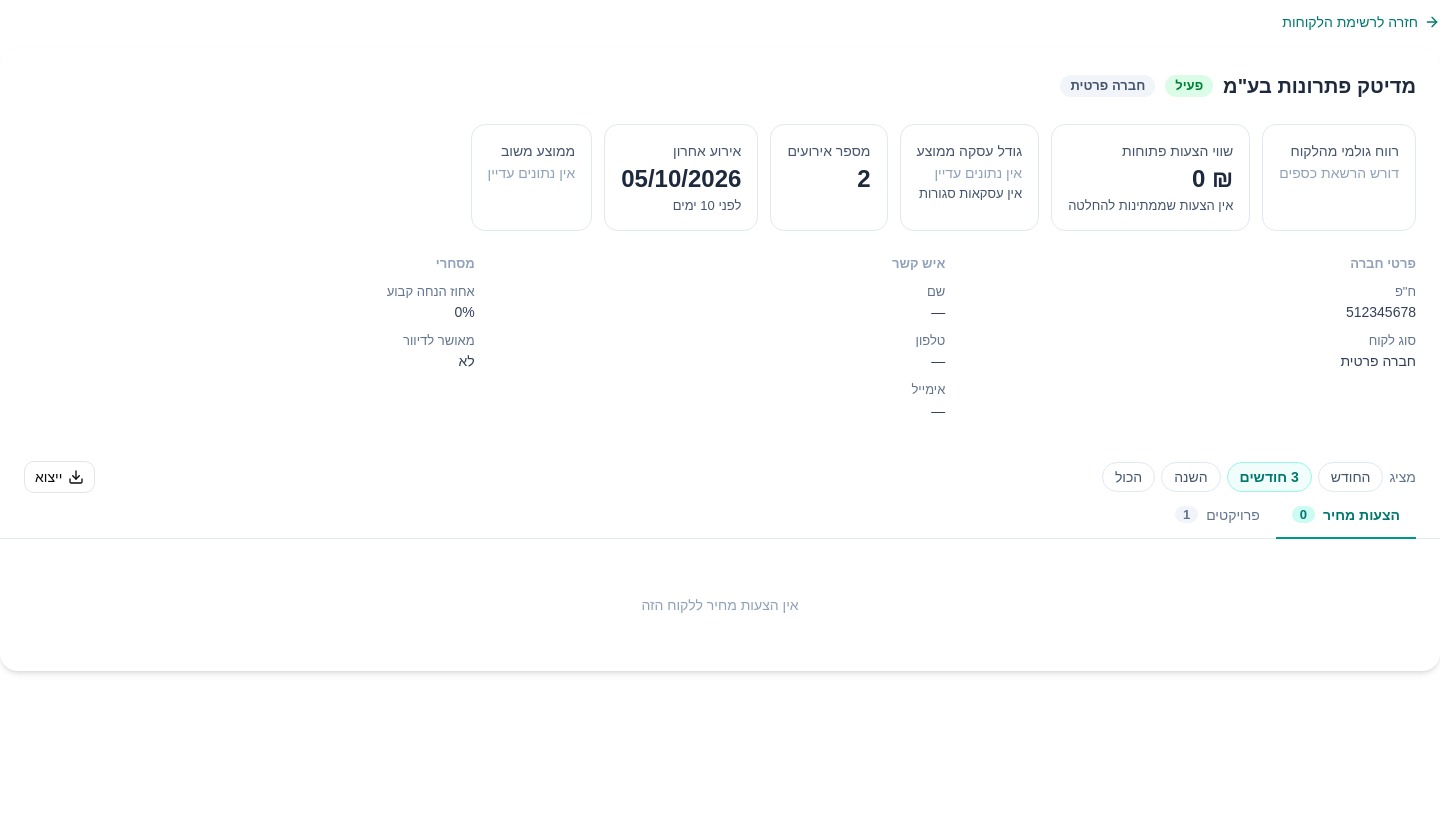
חלון-זמן משותף — אותו חלון חל גם על לשונית-הפרויקטים › פרויקט ישן מוסתר כברירת-מחדל דרך אותו WindowChips יחיד
Click the button with test id "customer-tab-projects": [1217, 516] box [1159,493,1276,539]
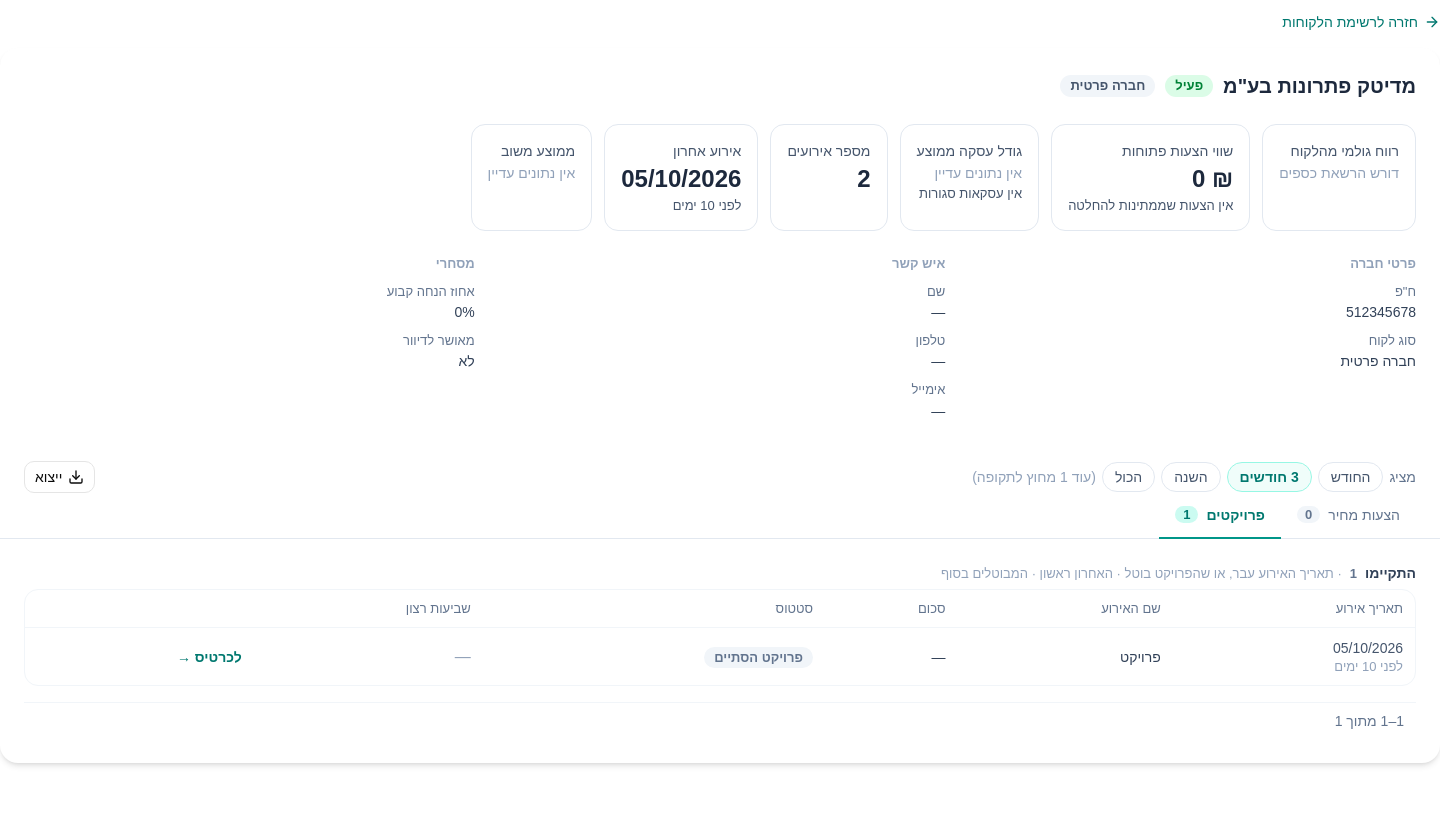
expect the row with test id "customer-project-702" is shown: met, box [25,628,1415,685]
Click the button with test id "list-window-all": [1129, 477] box [1102,462,1155,492]
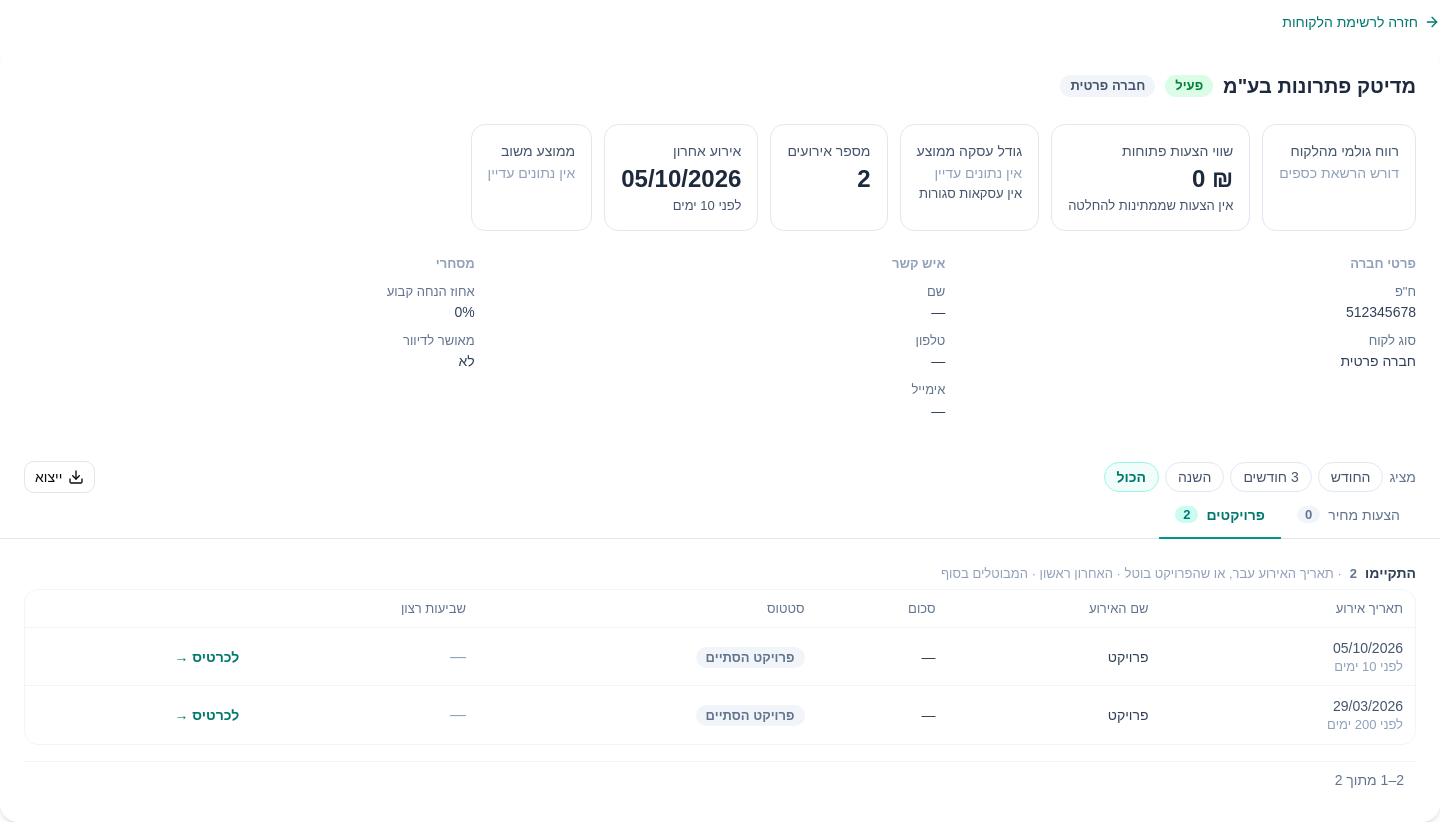
expect the row with test id "customer-project-701" is shown: met, box [25,686,1415,744]
